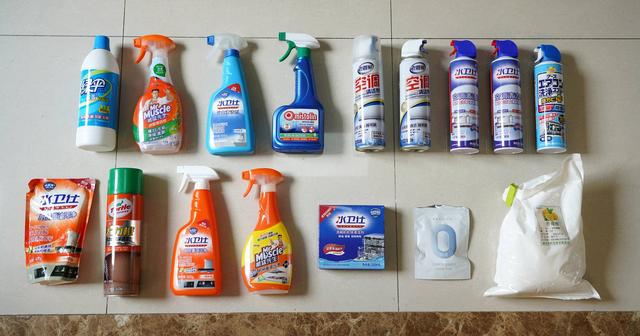cleaner: (199, 33, 259, 160), (269, 30, 328, 156), (128, 32, 187, 156), (240, 166, 294, 297), (171, 165, 224, 294), (73, 36, 125, 159), (97, 162, 144, 297), (485, 35, 528, 156), (443, 36, 484, 159), (530, 43, 573, 150), (396, 35, 434, 153), (350, 30, 386, 150)
